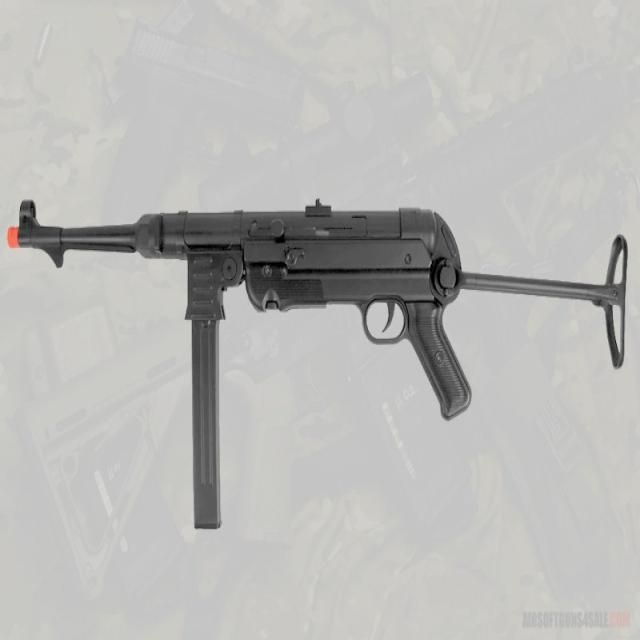SMG: (7, 202, 625, 532)
